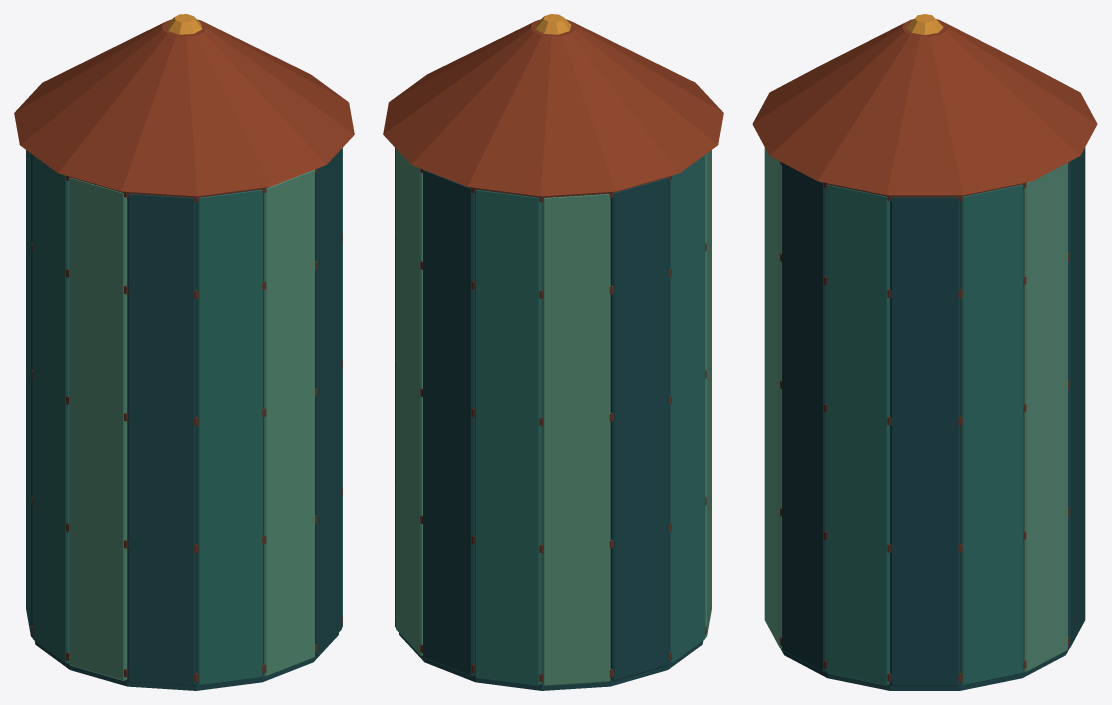
The model's file is grove_silo.glb.
3 views of the same model, side by side, from view 1: azimuth 30°, elevation 25°; view 2: azimuth 150°, elevation 25°; view 3: azimuth 270°, elevation 25° (orthographic).
Parts seen in each view (by area): view 1: grove_silo; view 2: grove_silo; view 3: grove_silo.
Part boxes in pixels (x1,y1,x2,y2): grove_silo: [14, 14, 354, 690]; grove_silo: [383, 14, 723, 690]; grove_silo: [752, 14, 1097, 690].
Bounding box in the file's own units: 8.5 × 16.95 × 8.72.
